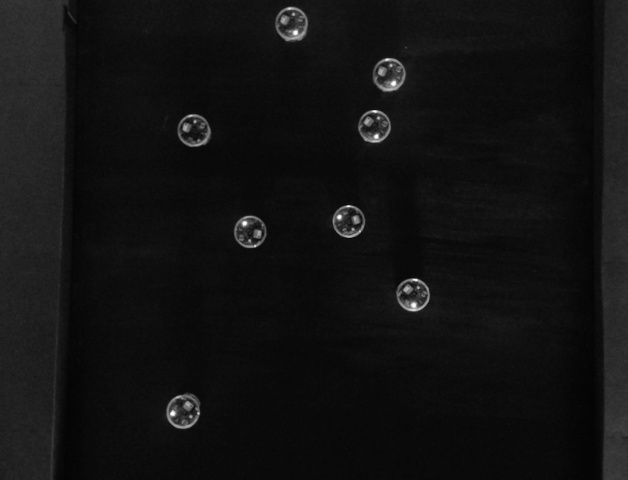epuck_2: (167, 394, 203, 431), (356, 109, 393, 144), (368, 59, 407, 92), (232, 214, 267, 249), (395, 275, 429, 311), (330, 205, 365, 239), (177, 113, 211, 146), (277, 7, 308, 41)
